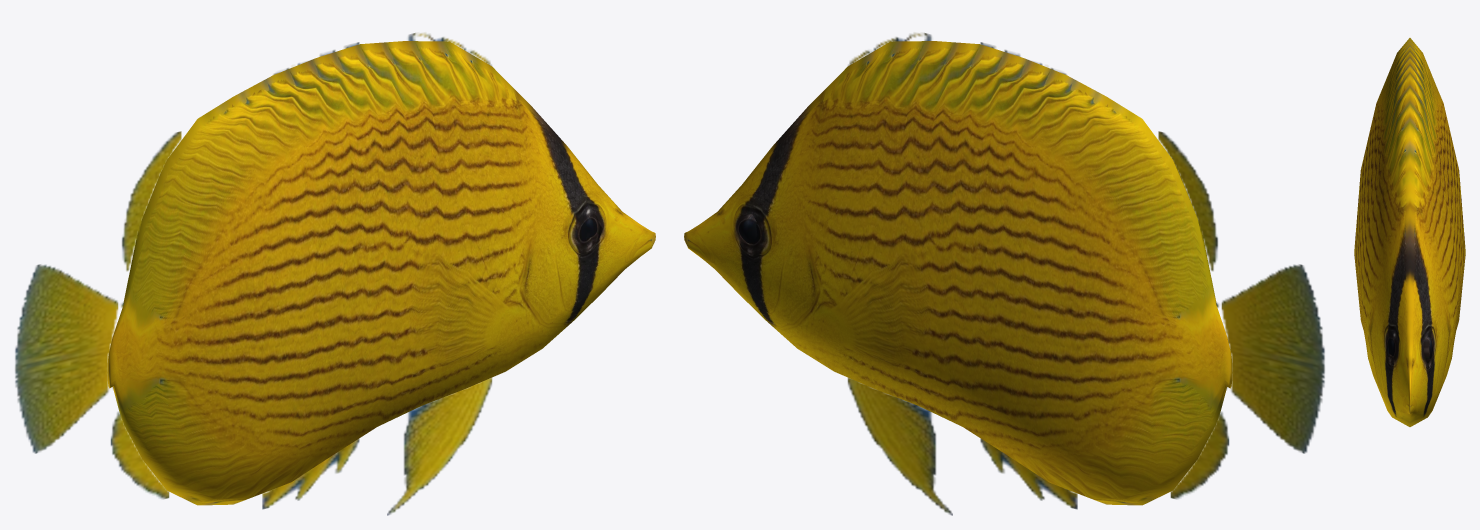
Rendered from ocean-butterflyfish.glb.
The picture shows the model from 3 angles, left to right: view 1: azimuth 30°, elevation 25°; view 2: azimuth 150°, elevation 25°; view 3: azimuth 270°, elevation 25°; orthographic projection. The views are drawn at different scales.
Parts seen in each view (by area): view 1: butterflyfish; view 2: butterflyfish; view 3: butterflyfish.
Part boxes in pixels (x1=…): butterflyfish: x1=15, y1=33, x2=655, y2=515; butterflyfish: x1=684, y1=33, x2=1324, y2=515; butterflyfish: x1=1354, y1=38, x2=1465, y2=426.
Size of the model in its own units: 0.1803 by 0.1291 by 0.0333.
1 material, 1 textured.
